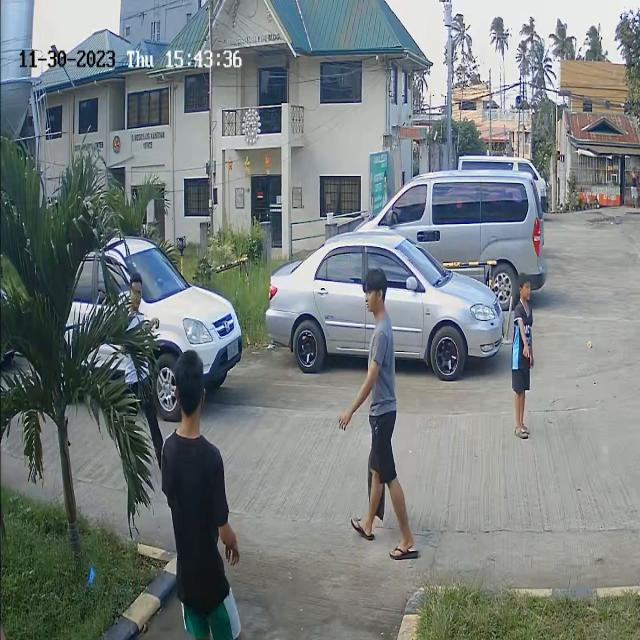person: (167, 351, 212, 516), (357, 272, 400, 400), (512, 279, 534, 401), (126, 270, 152, 346)
